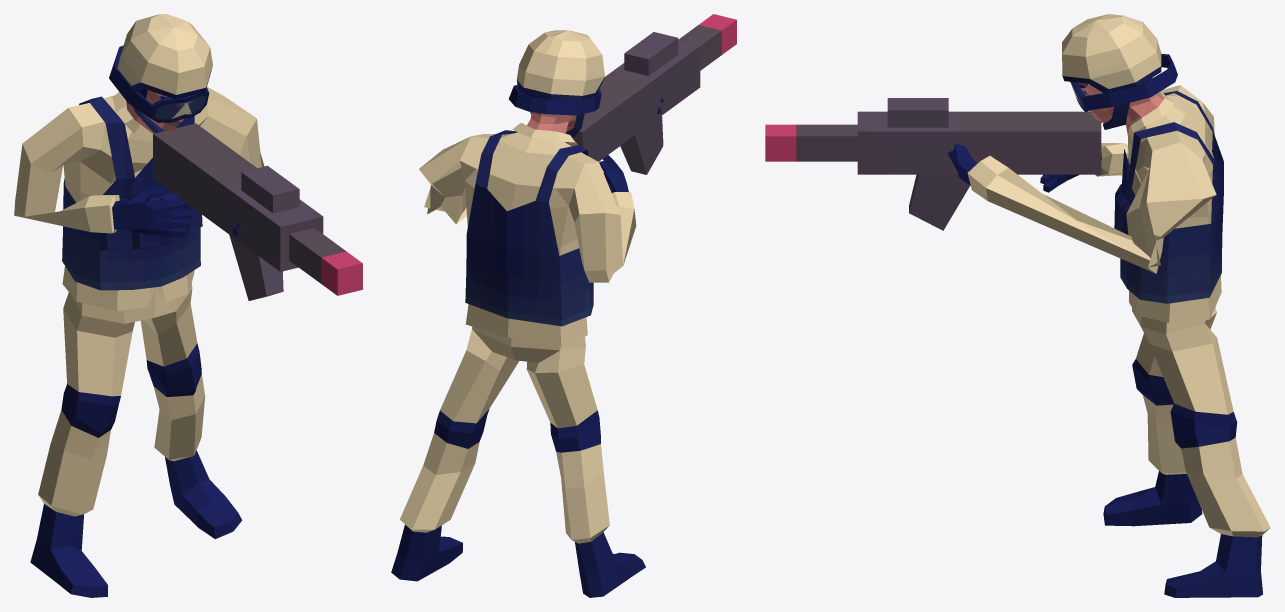
Rendered from 208_enemy_soldier.gltf.
The picture shows the model from 3 angles, left to right: view 1: azimuth 30°, elevation 25°; view 2: azimuth 150°, elevation 25°; view 3: azimuth 270°, elevation 25°; orthographic projection. The views are drawn at different scales.
Visible parts, largest first — view 1: enemy_soldier; view 2: enemy_soldier; view 3: enemy_soldier.
Boxes of the visible parts, bbox=[...] form: enemy_soldier: bbox=[14, 14, 362, 597]; enemy_soldier: bbox=[391, 14, 736, 597]; enemy_soldier: bbox=[765, 14, 1270, 597].
Bounding box in the file's own units: 1.57 × 3.72 × 3.17.
1 material, 1 textured.
